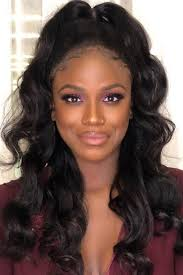black_female: (50, 39, 146, 170)
